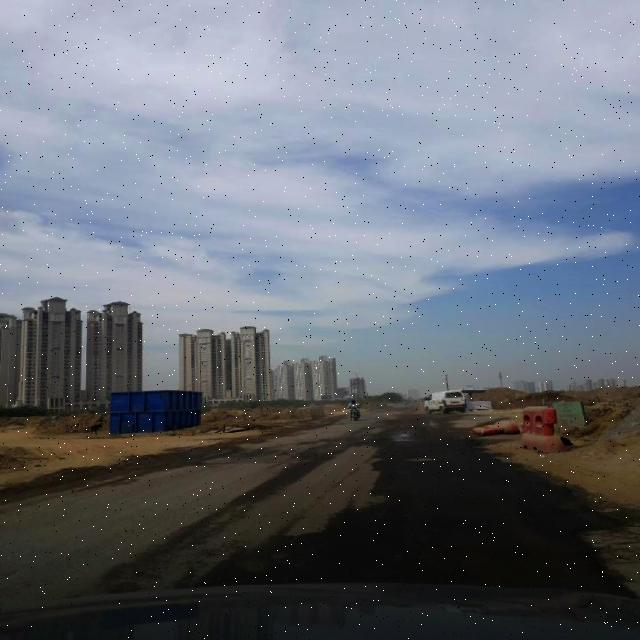D20: (579, 514, 632, 588)
